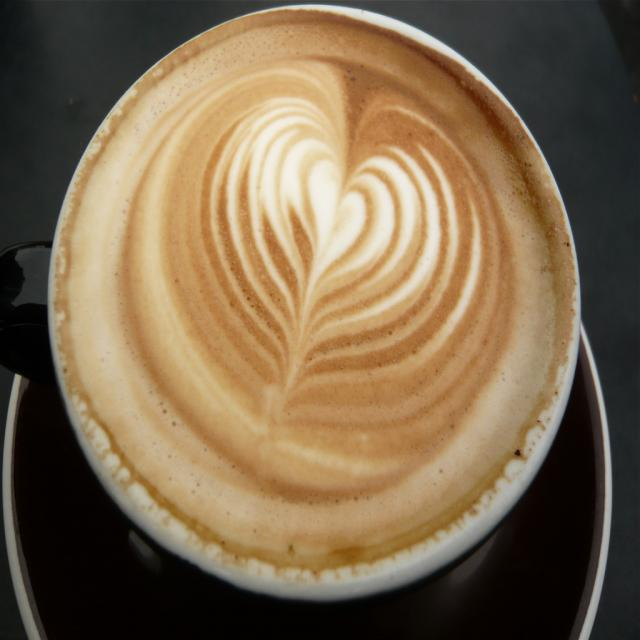Coffee: (52, 1, 577, 589)
